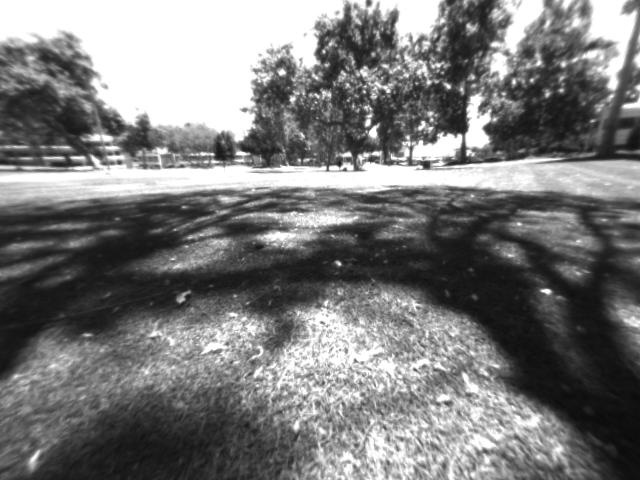dogtoy: (245, 234, 276, 253)
